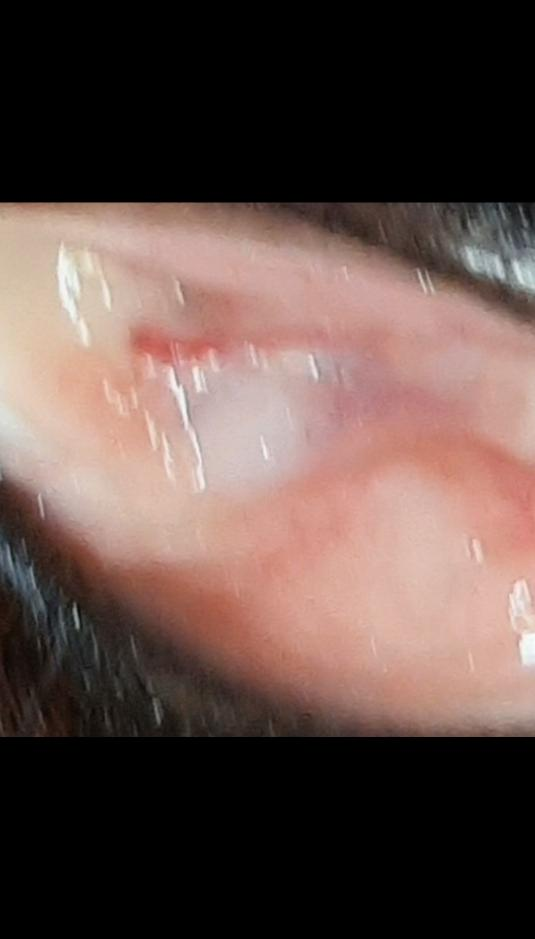eye_membrane: (0, 205, 535, 731)
